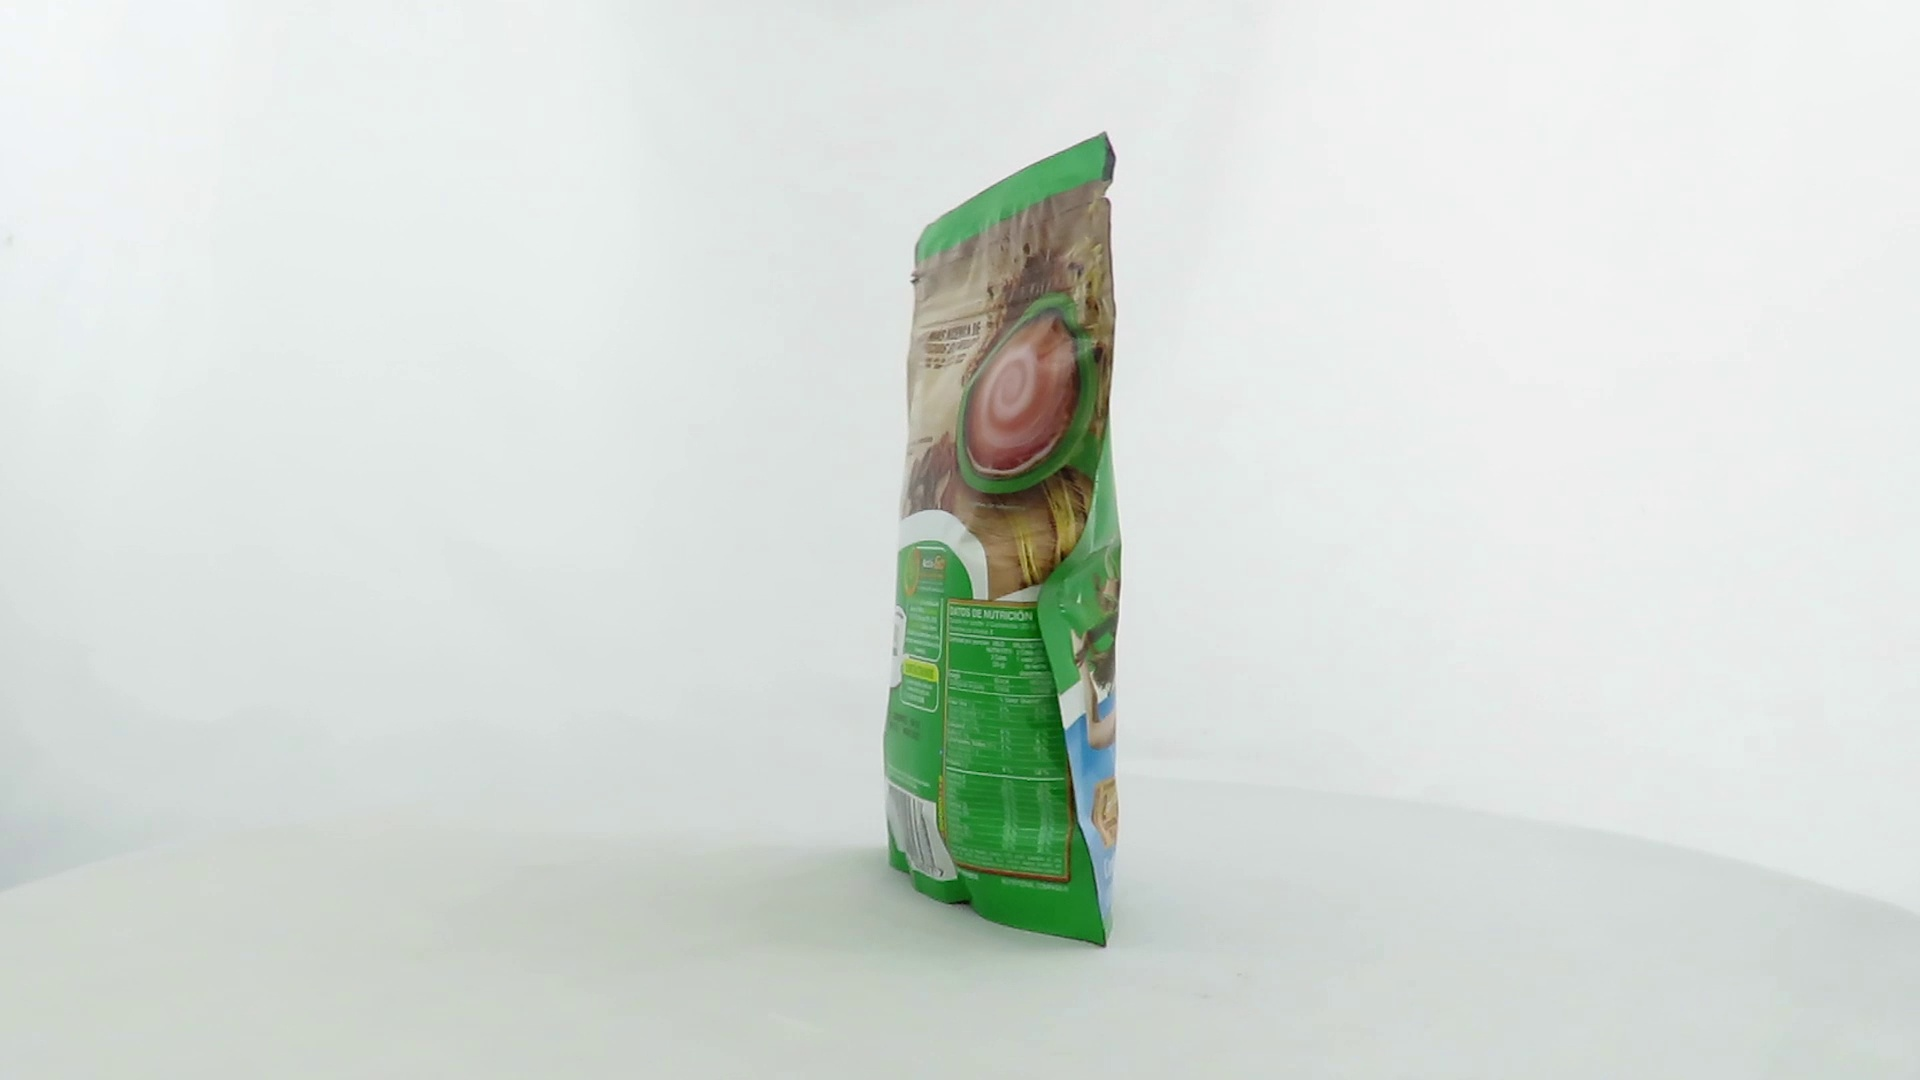COL0170205DYP20000: (876, 127, 1127, 953)
